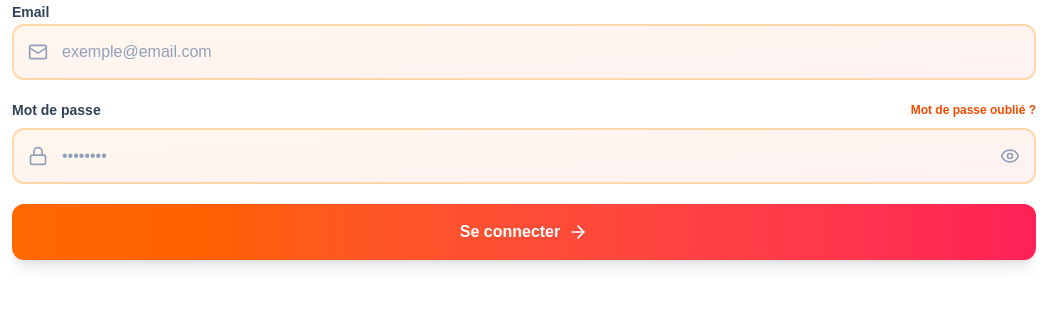
Test case: LoginForm › shows error for short password
Step 1. Type "test@example.com" into the field with placeholder "exemple@email.com" → [524, 52], box [12, 24, 1036, 80]
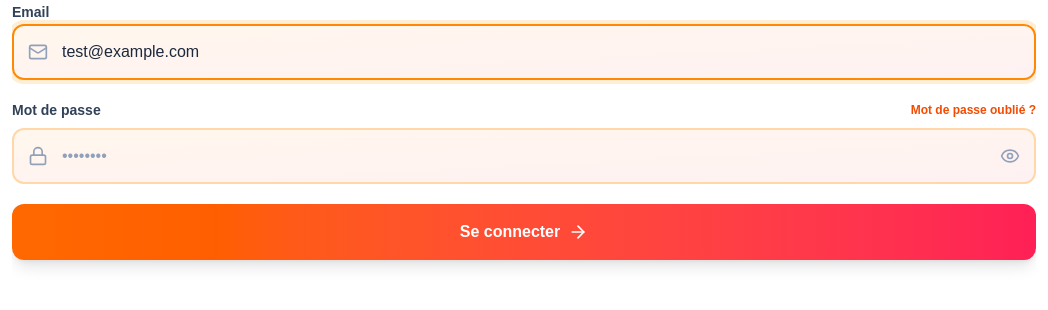
Step 2. Type "123" into the password field with placeholder "••••••••" → [524, 156], box [12, 128, 1036, 184]
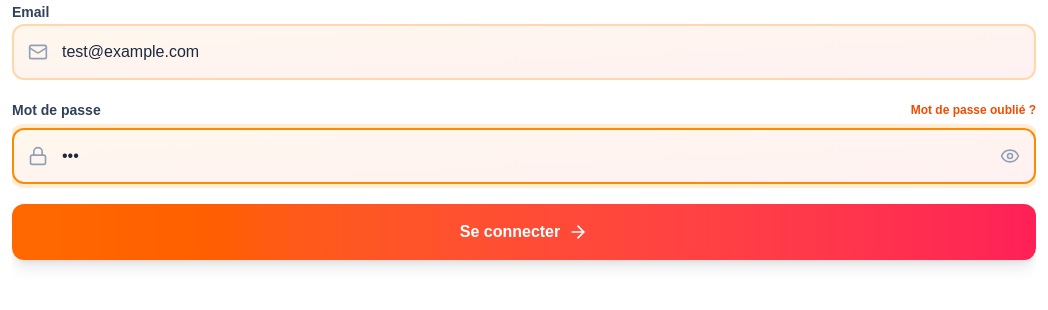
Step 3. Click the button "Se connecter" → [524, 232], box [12, 204, 1036, 260]
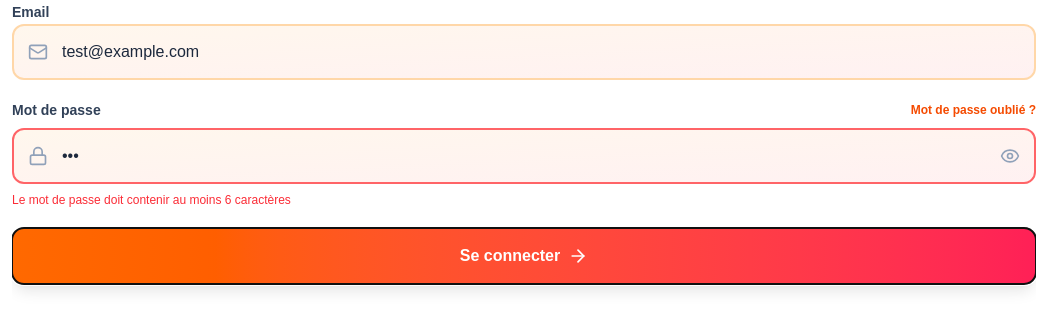
Now the text "Le mot de passe doit contenir au moins 6 caractères" is shown, box [12, 193, 291, 207]
